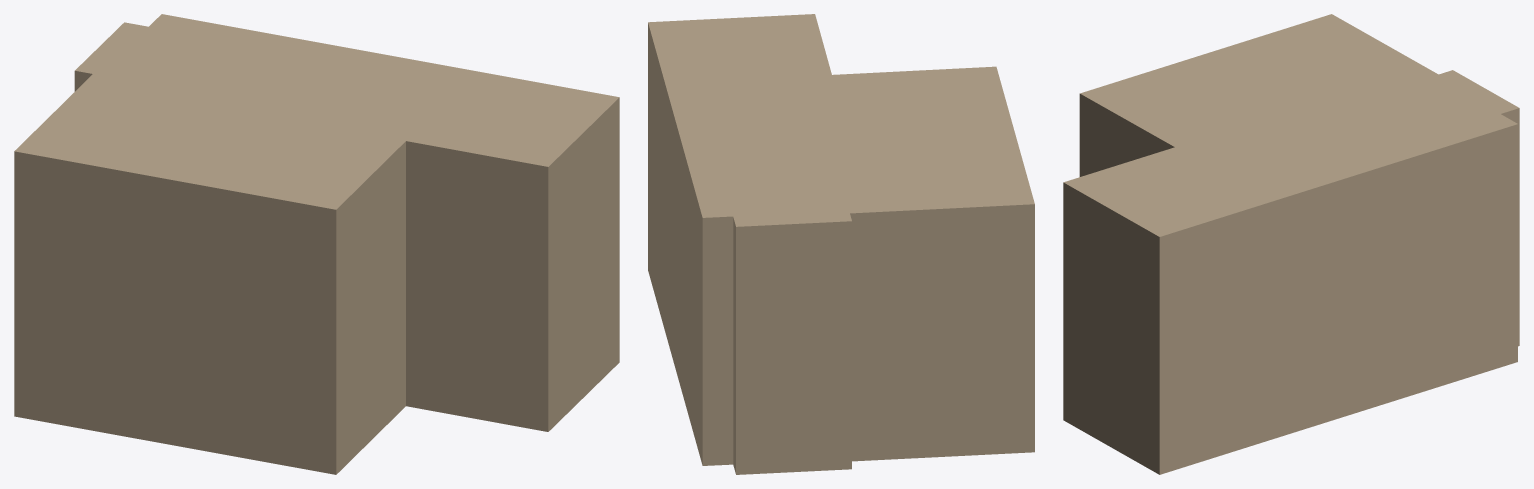
Rendered from bld_106456021.dae.
The picture shows the model from 3 angles, left to right: view 1: azimuth 30°, elevation 25°; view 2: azimuth 150°, elevation 25°; view 3: azimuth 270°, elevation 25°; orthographic projection. The views are drawn at different scales.
Parts seen in each view (by area): view 1: bld_106456021; view 2: bld_106456021; view 3: bld_106456021.
Part boxes in pixels (bbox=[...]): bld_106456021: bbox=[14, 14, 619, 474]; bld_106456021: bbox=[648, 14, 1034, 474]; bld_106456021: bbox=[1063, 14, 1519, 474].
Bounding box in the file's own units: 16.09 × 13.9 × 8.
